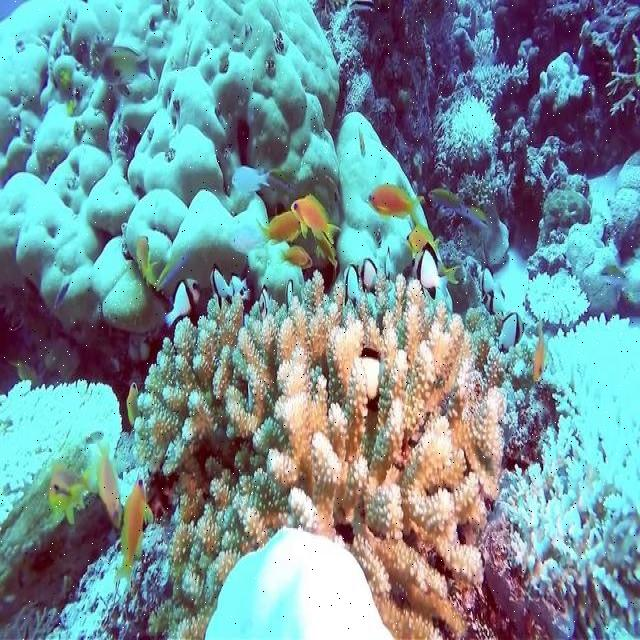fish: (120, 477, 153, 577), (291, 193, 339, 245), (96, 46, 152, 88), (165, 278, 204, 329), (412, 242, 442, 301), (362, 187, 419, 218), (255, 212, 300, 242), (498, 314, 525, 351), (125, 381, 140, 424), (360, 260, 377, 291)
reefs: (123, 273, 510, 639)
